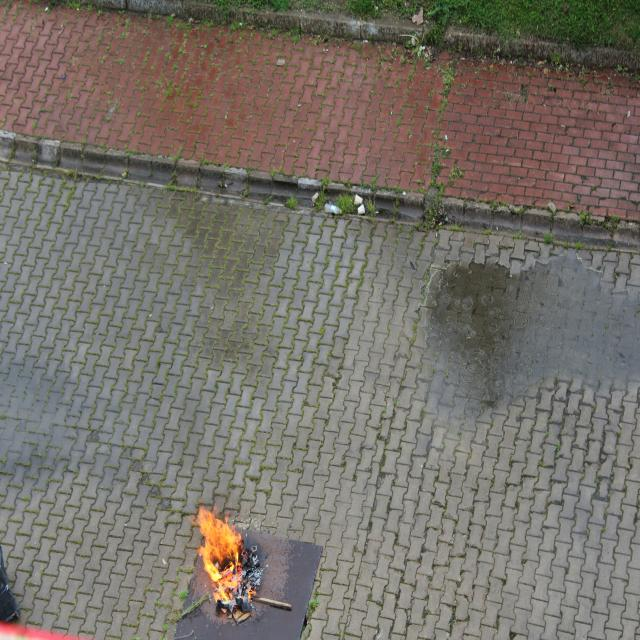fire: (196, 506, 246, 604)
